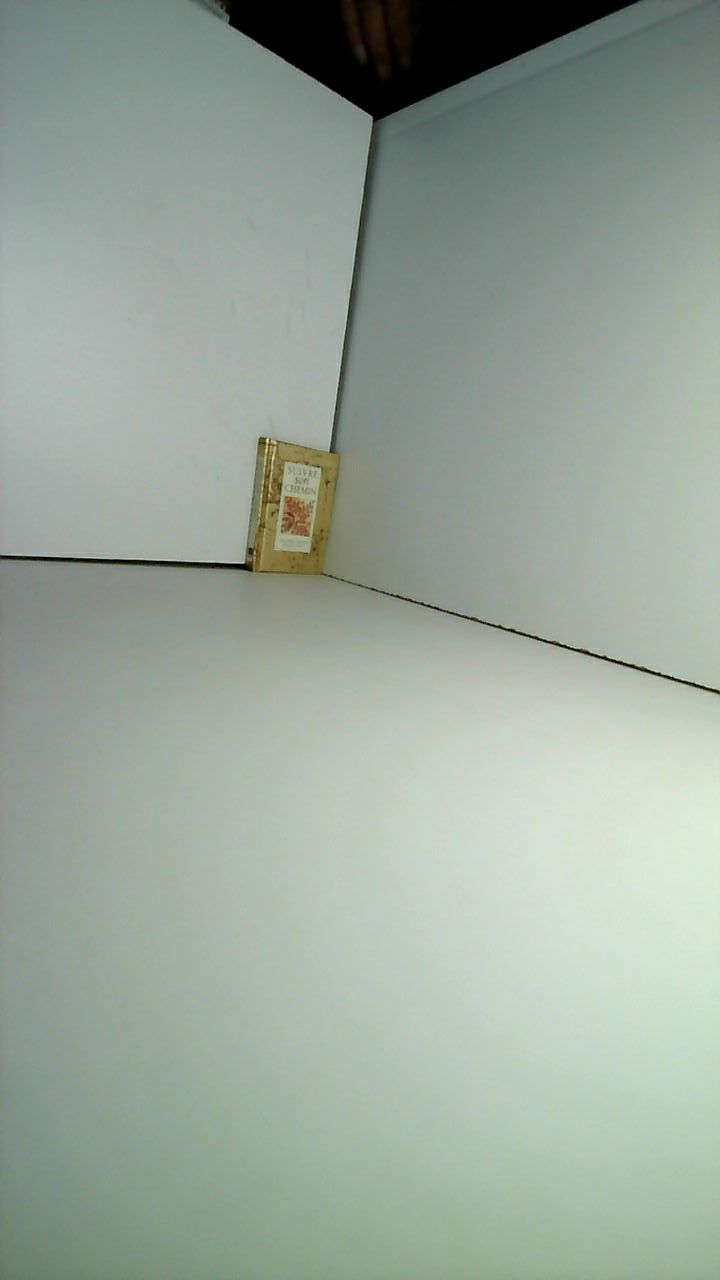book: (215, 397, 369, 616)
